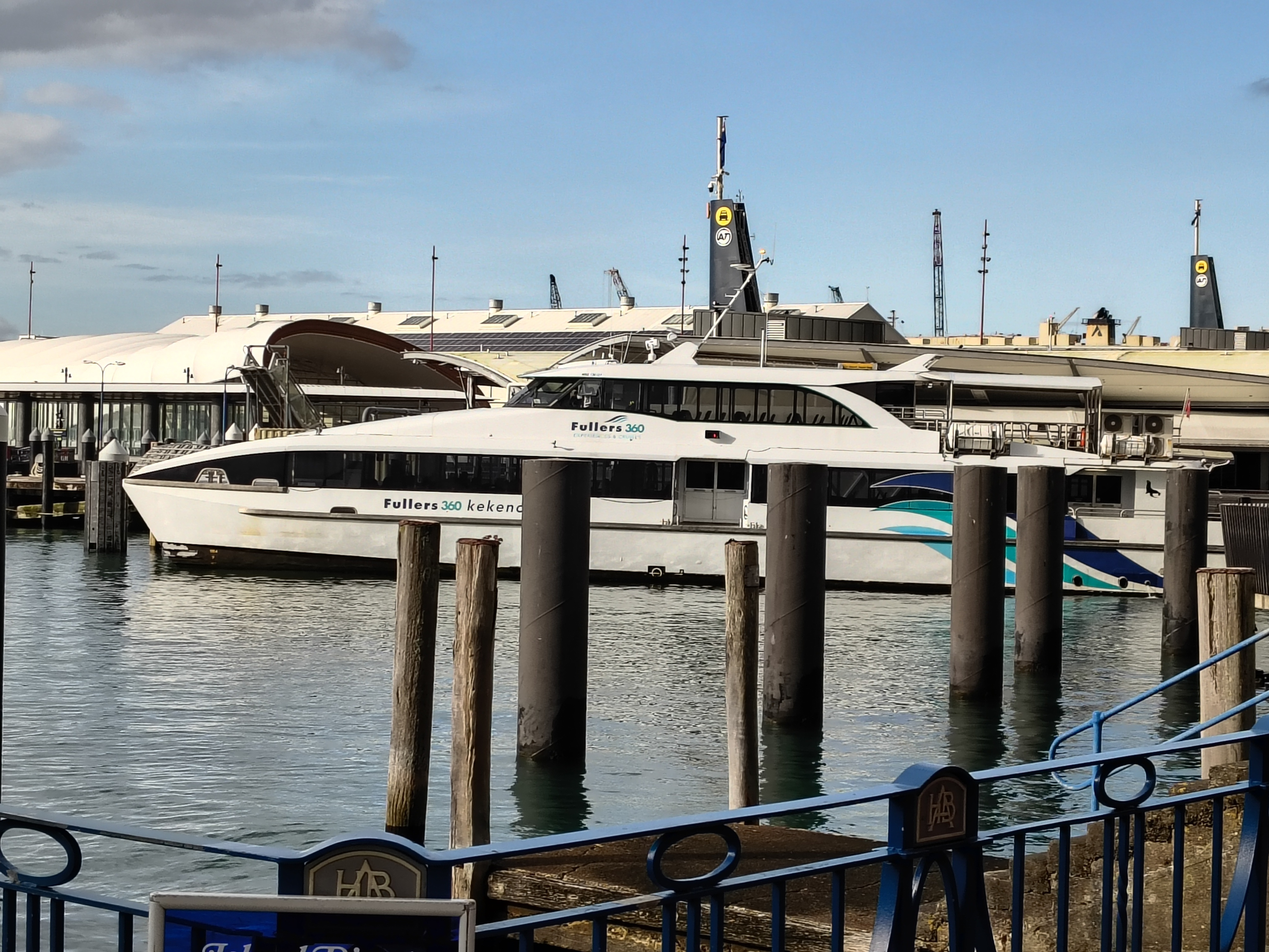ferry: (123, 332, 1229, 597)
